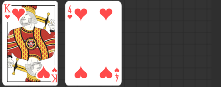4H: (66, 3, 73, 20)
